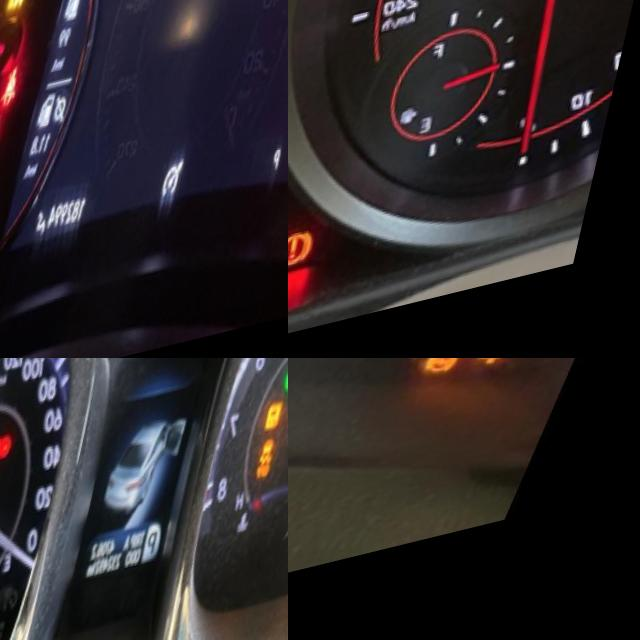Electronic Power Steering: (4, 432, 31, 471)
Seat Belt: (15, 70, 37, 114)
